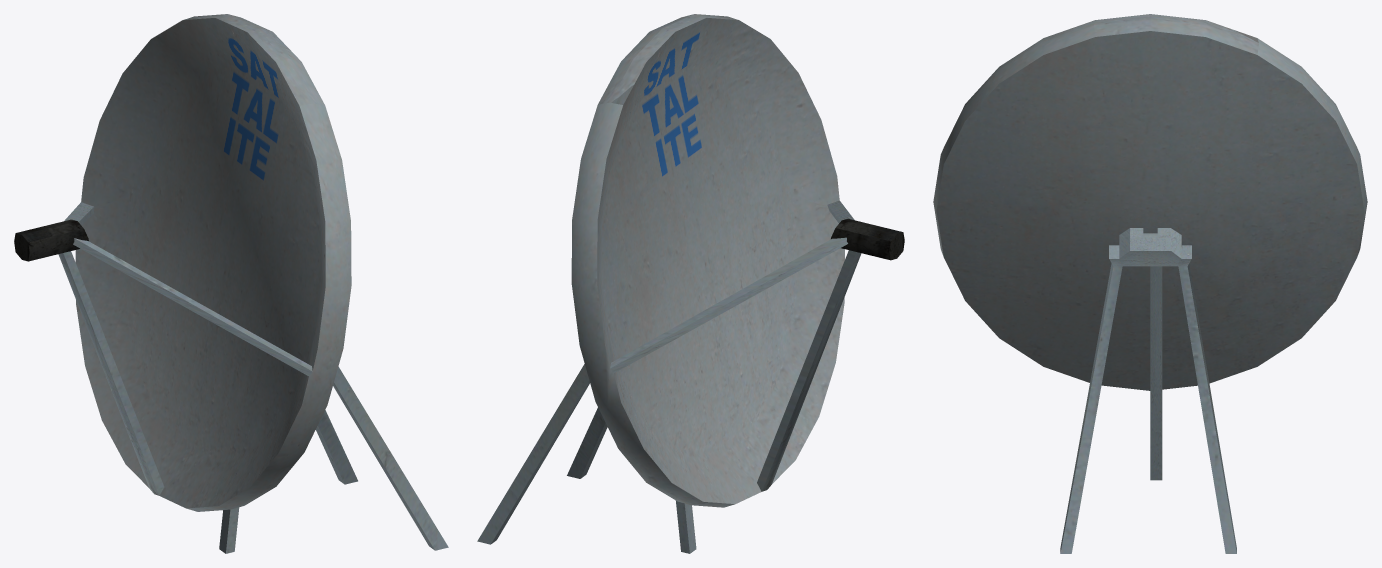
File: Sat_01_02.fbx
The picture shows the model from 3 angles, left to right: view 1: azimuth 30°, elevation 25°; view 2: azimuth 150°, elevation 25°; view 3: azimuth 270°, elevation 25°; orthographic projection. The views are drawn at different scales.
Visible parts, largest first — view 1: Mesh (4); view 2: Mesh (4); view 3: Mesh (4).
Part boxes in pixels (left/top/right/bottom): Mesh (4): left=14, top=14, right=448, bottom=553; Mesh (4): left=477, top=14, right=904, bottom=553; Mesh (4): left=933, top=14, right=1367, bottom=553.
Size of the model in its own units: 326 by 427 by 356.
